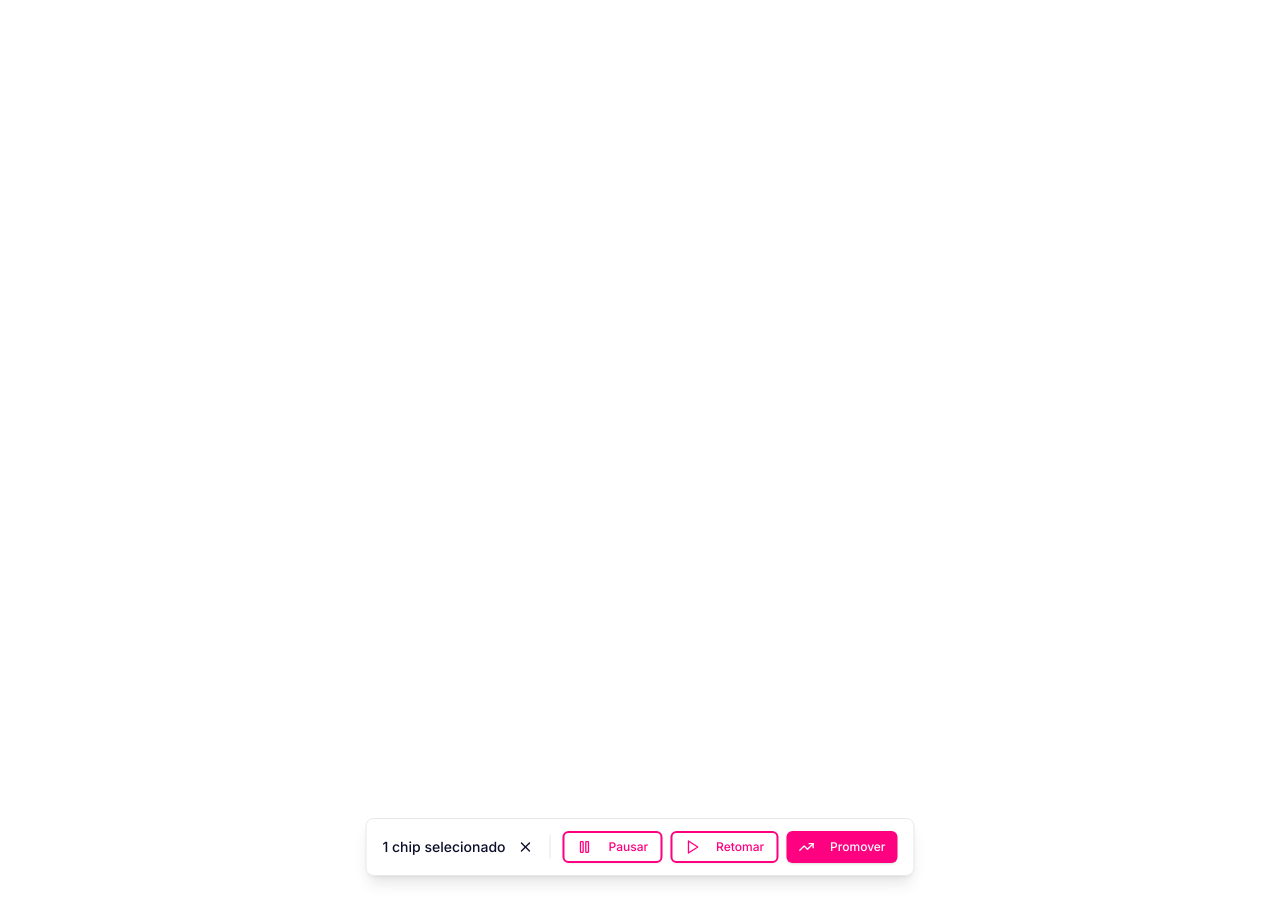
Test: ChipsBulkActions › singular/plural text › should use singular form in dialog for one chip
Click the button "Pausar" at (612, 847), box x1=562 y1=831 x2=662 y2=863
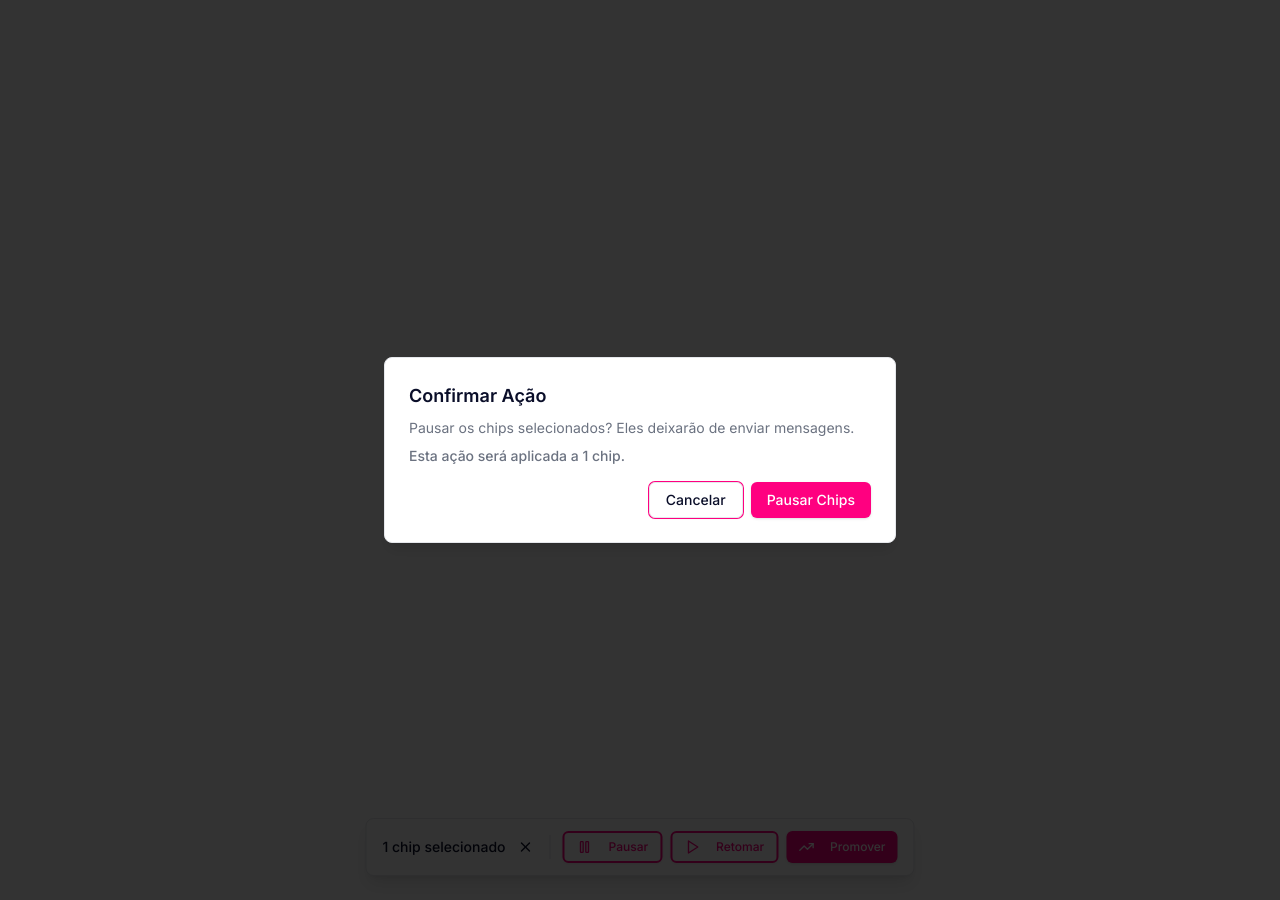
Result: the text "Esta ação será aplicada a 1 chip." is shown at x1=409 y1=447 x2=625 y2=464
